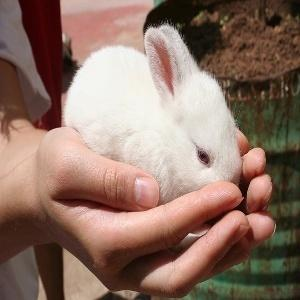rabbit: (62, 26, 244, 205)
